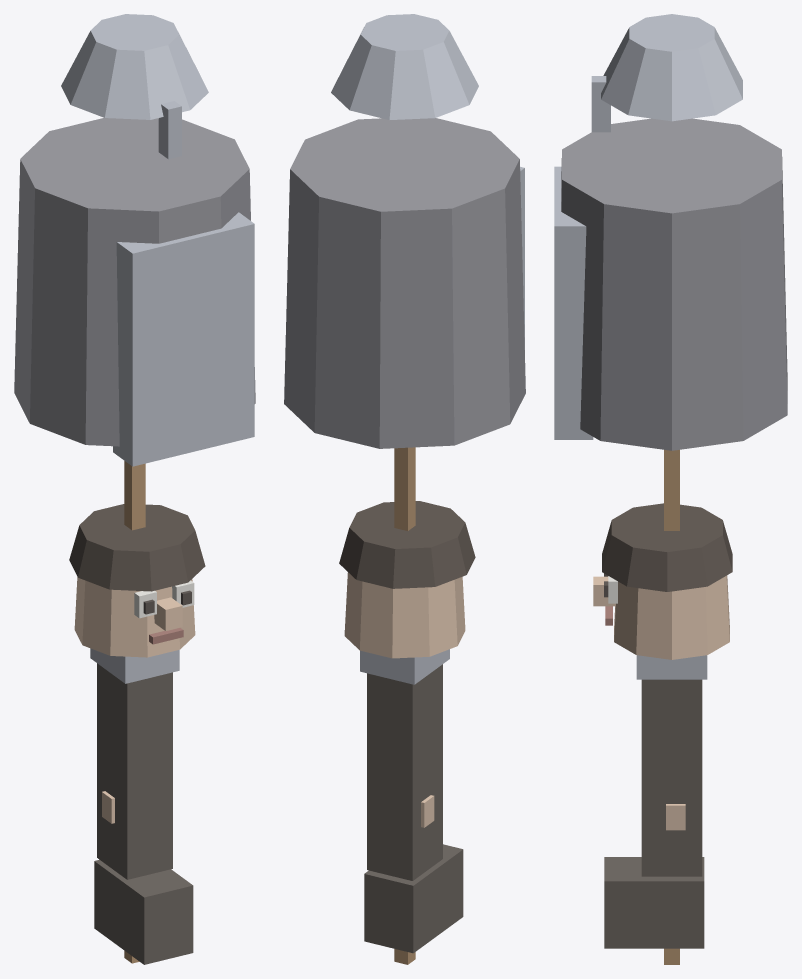
The model's file is npc_halden.glb.
3 renders of one model, left to right at view 1: azimuth 30°, elevation 25°; view 2: azimuth 150°, elevation 25°; view 3: azimuth 270°, elevation 25°, orthographic.
Visible parts, largest first — view 1: Torso, Tabard, LimbLegL, Helmet, Hair, BootL, Head, PauldronL, PropSpear, HelmetNasal, Nose; view 2: Torso, LimbLegL, Helmet, Hair, Head, BootL, PropSpear, PauldronL, Tabard; view 3: Torso, LimbLegL, Helmet, Hair, BootL, Head, Tabard, PauldronL, PropSpear, HelmetNasal, ThumbL.
Part boxes in pixels (x1,y1,x2,y2): Torso: (14,118,255,446); Tabard: (113,212,254,466); LimbLegL: (97,663,172,879); Helmet: (61,14,208,119); Hair: (69,504,205,591); BootL: (94,859,193,964); Head: (74,577,195,657); PauldronL: (90,648,179,683); PropSpear: (124,461,145,963); HelmetNasal: (158,101,181,159); Nose: (154,597,182,630); Torso: (284,118,525,448); LimbLegL: (367,664,442,880); Helmet: (331,14,478,120); Hair: (339,501,475,588); Head: (344,572,465,658); BootL: (364,844,463,953); PropSpear: (394,447,415,964); PauldronL: (360,649,449,684); Tabard: (520,166,524,349); Torso: (561,118,787,450); LimbLegL: (641,679,702,876); Helmet: (601,14,742,121); Hair: (602,503,732,591); BootL: (604,857,704,948); Head: (614,575,729,659); Tabard: (554,166,593,439); PauldronL: (636,655,707,679); PropSpear: (664,450,679,964); HelmetNasal: (591,76,610,132); ThumbL: (666,804,685,830).
Bounding box in the file's own units: 0.62 × 2.61 × 0.5948.
